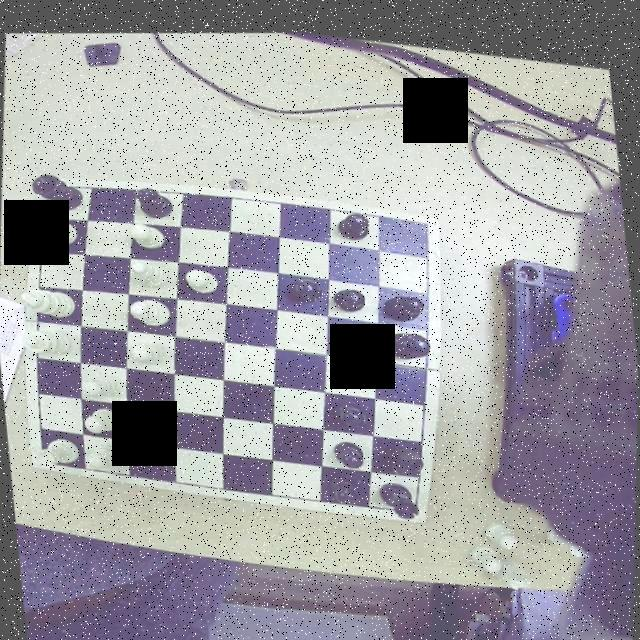chess-table-corners: (410, 202, 438, 232), (402, 484, 430, 512), (30, 447, 61, 471), (36, 175, 61, 200)
